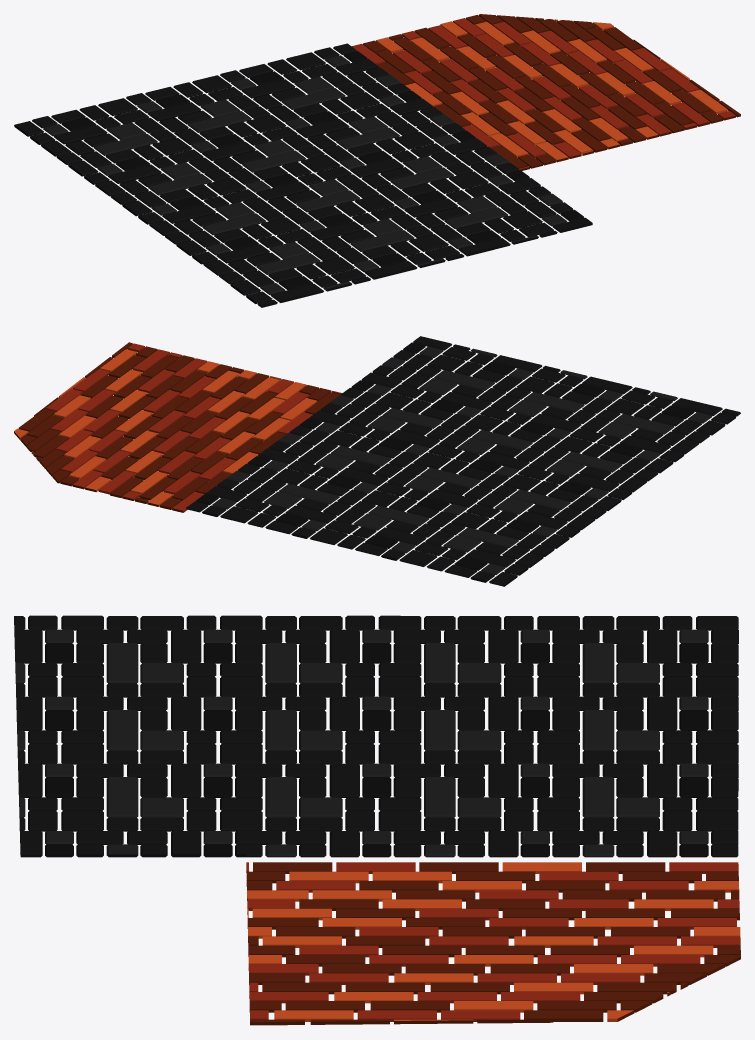
The model's file is BlacksmithFloor.obj.
3 renders of one model, top to bottom at view 1: azimuth 30°, elevation 25°; view 2: azimuth 150°, elevation 25°; view 3: azimuth 270°, elevation 25°, orthographic. The views are drawn at different scales.
Visible parts, largest first — view 1: Plane.027_Plane.029, Plane.026_Plane.028; view 2: Plane.027_Plane.029, Plane.026_Plane.028; view 3: Plane.027_Plane.029, Plane.026_Plane.028.
Part boxes in pixels (x1,y1,x2,y2): Plane.027_Plane.029: [14, 43, 592, 307]; Plane.026_Plane.028: [352, 14, 740, 170]; Plane.027_Plane.029: [186, 336, 740, 586]; Plane.026_Plane.028: [14, 342, 342, 512]; Plane.027_Plane.029: [14, 615, 738, 857]; Plane.026_Plane.028: [246, 862, 740, 1025].
Bounding box in the file's own units: 11.94 × 0.1344 × 9.16.
